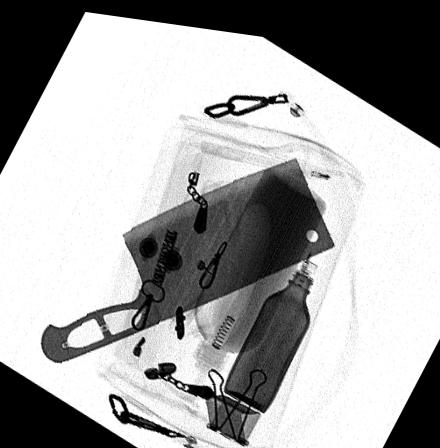Knife: (38, 146, 335, 363)
